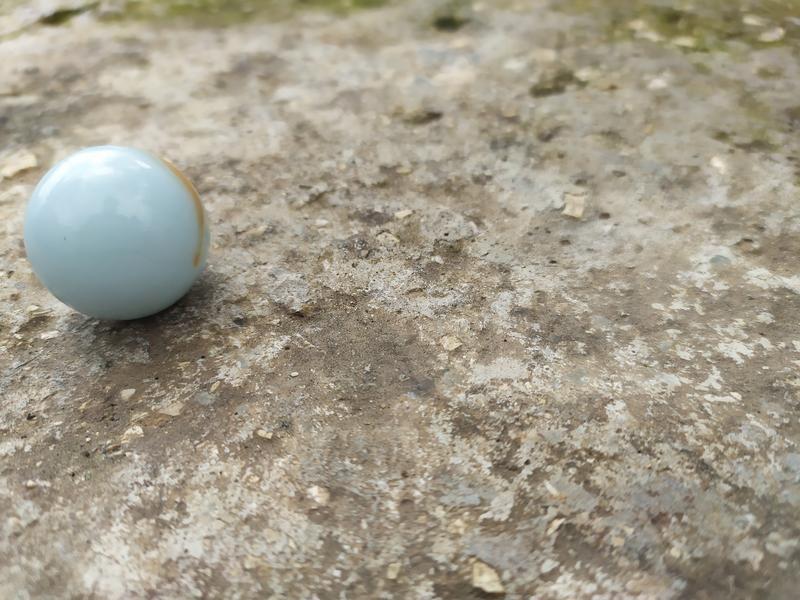Warning: (20, 141, 215, 325)
